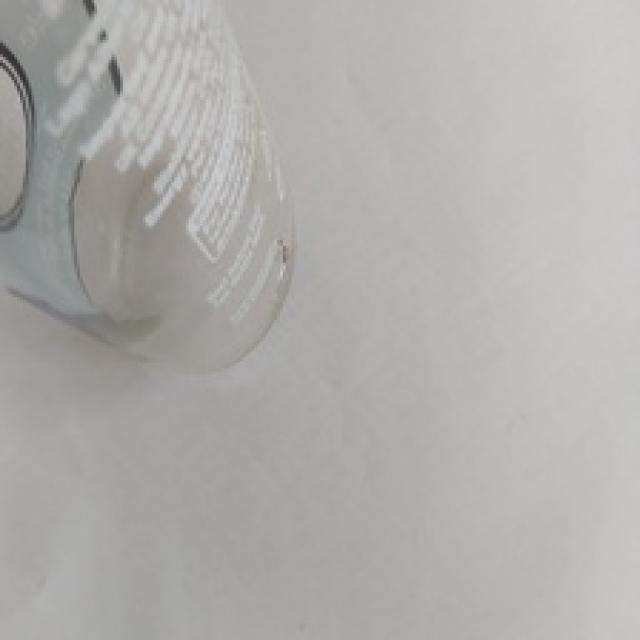Glass: (0, 0, 295, 373)
